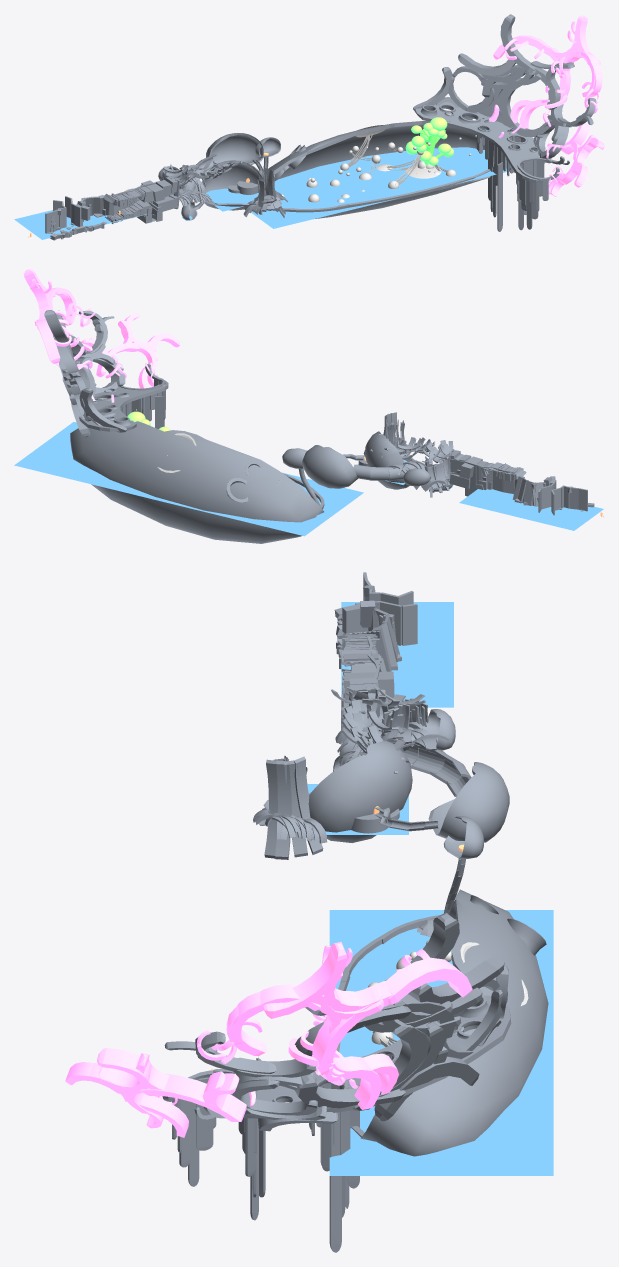
The model's file is World.fbx.
3 renders of one model, top to bottom at view 1: azimuth 30°, elevation 25°; view 2: azimuth 150°, elevation 25°; view 3: azimuth 270°, elevation 25°, orthographic. The views are drawn at different scales.
Parts seen in each view (by area): view 1: Plane_1, 牆壁, Level3, 觸手, 洞穴, 糖漿, 地板, 地板天花板, Plane, 絲綢, 水__1_, 管道; view 2: Level3, Plane_1, 觸手, 牆壁, 洞穴, 地板天花板, Plane, 地板, 管道, 糖漿; view 3: 觸手, Level3, Plane_1, 牆壁, 洞穴, 地板天花板, 糖漿, Plane, 地板, 管道.
Part boxes in pixels (x1=…): Plane_1: x1=251, y1=129, x2=506, y2=228; 牆壁: x1=413, y1=14, x2=596, y2=180; Level3: x1=268, y1=121, x2=490, y2=218; 觸手: x1=488, y1=15, x2=604, y2=196; 洞穴: x1=158, y1=133, x2=280, y2=220; 糖漿: x1=476, y1=124, x2=548, y2=231; 地板: x1=415, y1=102, x2=549, y2=182; 地板天花板: x1=160, y1=160, x2=287, y2=217; Plane: x1=14, y1=204, x2=146, y2=239; 絲綢: x1=347, y1=134, x2=447, y2=184; 水__1_: x1=206, y1=188, x2=258, y2=211; 管道: x1=189, y1=154, x2=268, y2=210; Level3: x1=70, y1=416, x2=324, y2=543; Plane_1: x1=14, y1=422, x2=363, y2=536; 觸手: x1=23, y1=269, x2=179, y2=402; 牆壁: x1=44, y1=310, x2=165, y2=437; 洞穴: x1=282, y1=431, x2=452, y2=490; 地板天花板: x1=363, y1=412, x2=453, y2=497; Plane: x1=459, y1=489, x2=603, y2=530; 地板: x1=79, y1=380, x2=168, y2=431; 管道: x1=298, y1=454, x2=424, y2=506; 糖漿: x1=96, y1=378, x2=165, y2=428; 觸手: x1=65, y1=941, x2=472, y2=1137; Level3: x1=336, y1=889, x2=548, y2=1156; Plane_1: x1=329, y1=910, x2=553, y2=1175; 牆壁: x1=162, y1=912, x2=508, y2=1131; 洞穴: x1=308, y1=709, x2=509, y2=858; 地板天花板: x1=253, y1=686, x2=451, y2=859; 糖漿: x1=172, y1=1053, x2=394, y2=1252; Plane: x1=341, y1=602, x2=453, y2=707; 地板: x1=193, y1=995, x2=511, y2=1118; 管道: x1=375, y1=733, x2=471, y2=913.
Size of the model in its own units: 12674 by 4029 by 4853.
